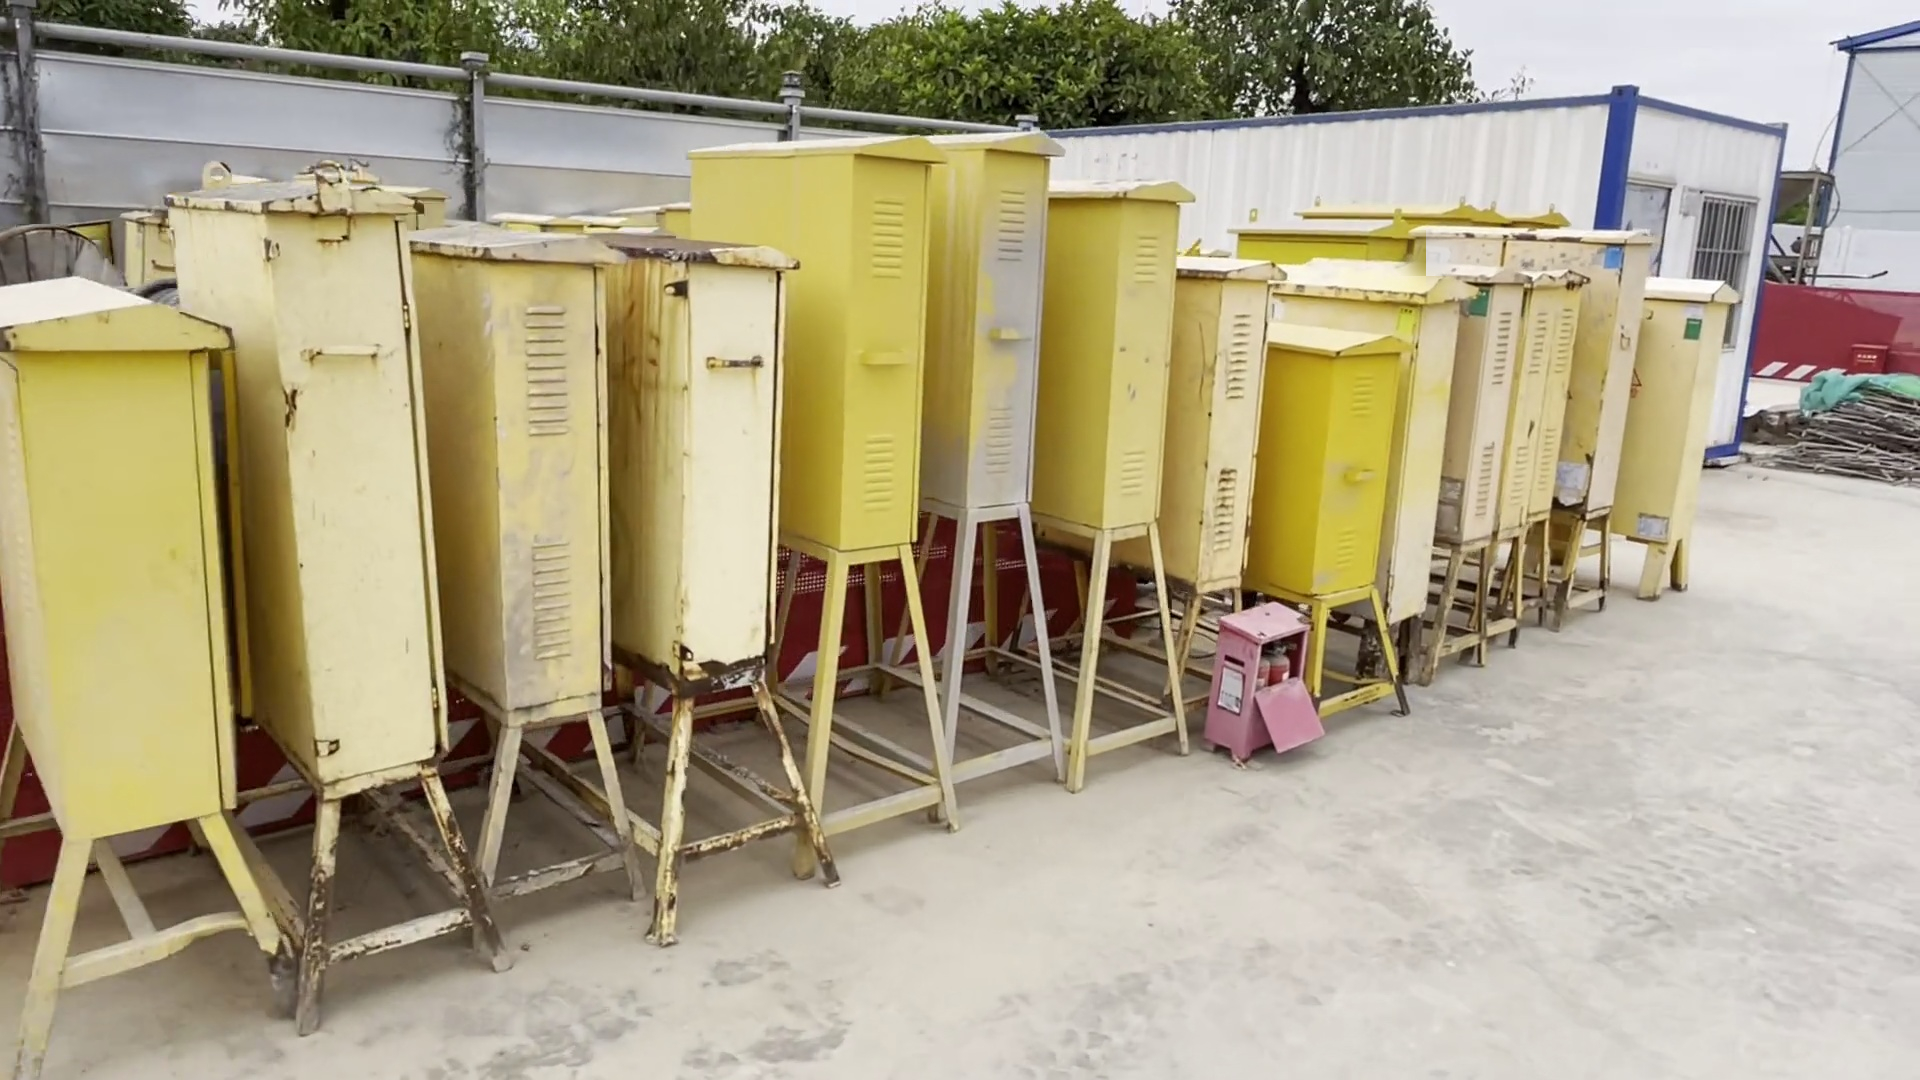ebox: (152, 160, 508, 982), (1, 248, 258, 1068), (687, 146, 968, 849), (593, 212, 837, 913), (400, 223, 646, 902), (919, 127, 1069, 794), (1044, 171, 1197, 775), (1427, 224, 1611, 604), (1273, 326, 1414, 731), (1288, 268, 1427, 620), (1171, 256, 1270, 727), (1619, 272, 1750, 592), (1423, 261, 1502, 676), (1493, 270, 1559, 655)
